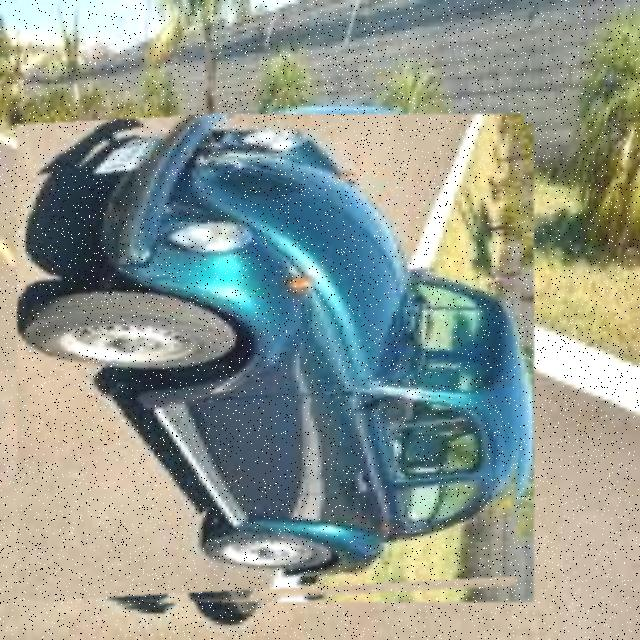car: (28, 115, 526, 613)
